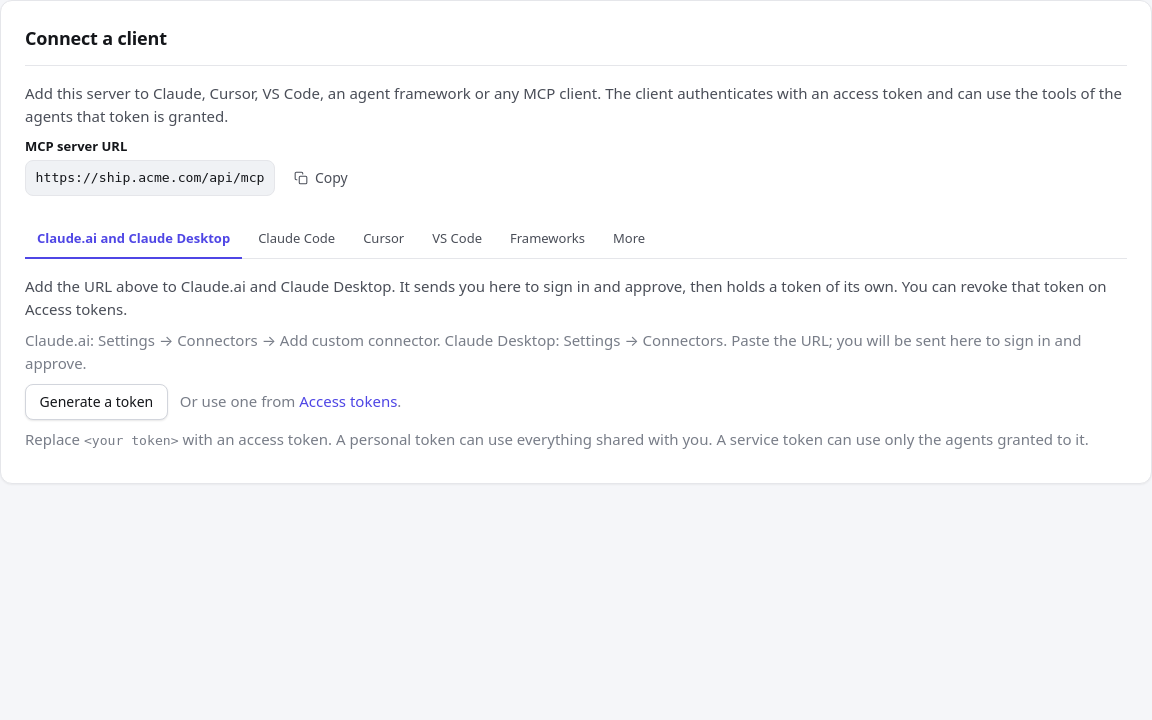
Test: the dialects (075) › offers the frameworks as their own group, LangChain first with where it goes (111)
expect the text "https://ship.acme.com/api/mcp" is shown: met, box [25,160,275,196]
Click the tab "Frameworks": (548, 239) [498,220,597,258]
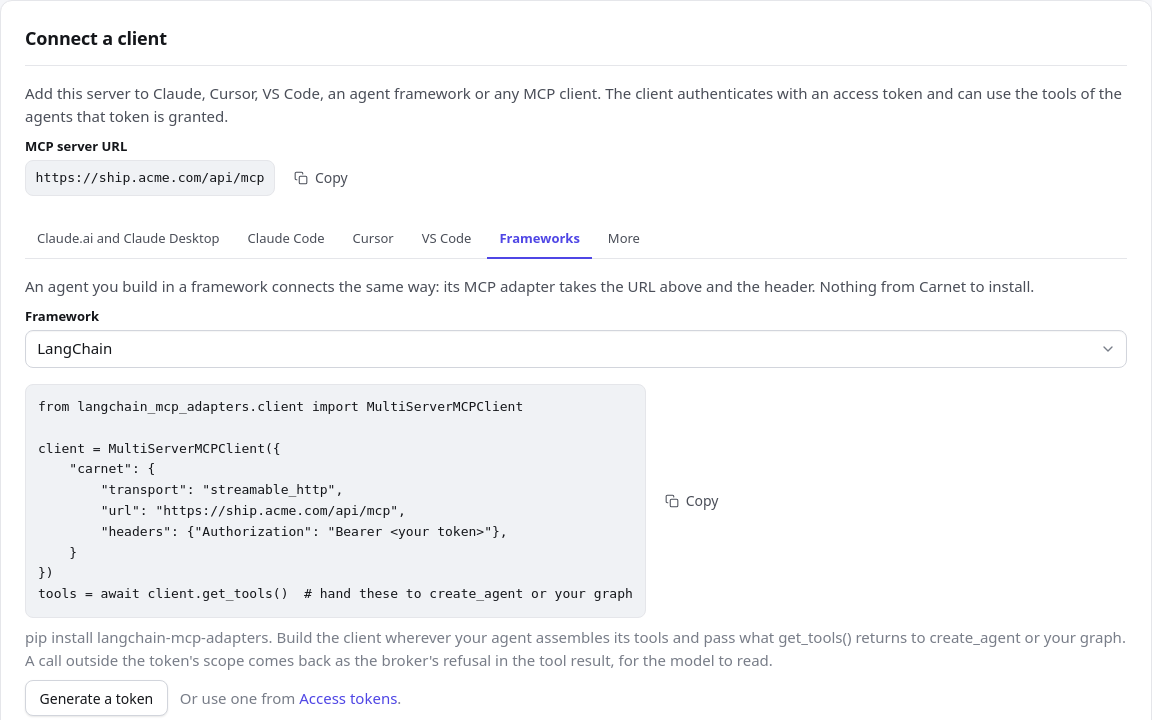
expect the text "Nothing from Carnet to install" is shown: met, box [25,276,1034,296]
expect the dropdown labelled "Framework" shows "LangChain": met, box [25,330,1127,368]
expect the text "Bearer <your token>" is shown: met, box [38,399,633,601]
Note: The frameworks are not also under More, and More is still the other clients.
Click the tab "More": (624, 239) [596,220,652,258]
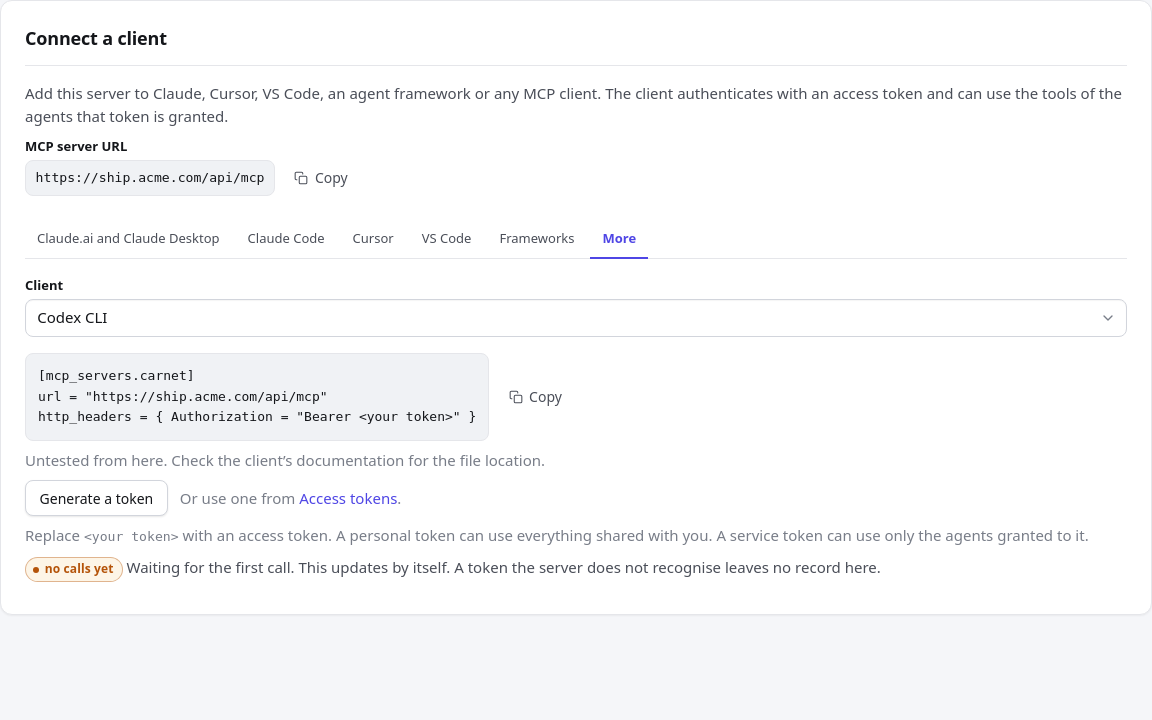
expect the text "langchain" is gone: met
